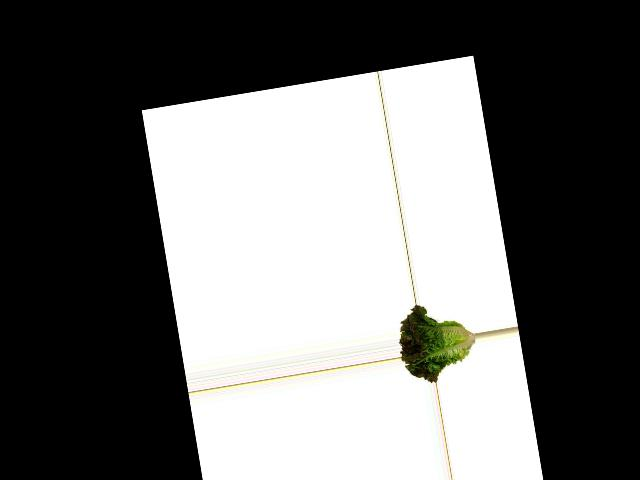lettuce: (394, 296, 481, 386)
